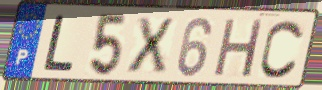5: (86, 11, 128, 78)
6: (175, 15, 214, 80)
C: (258, 18, 307, 81)
H: (211, 17, 267, 80)
L: (40, 13, 77, 74)
X: (125, 15, 177, 75)
